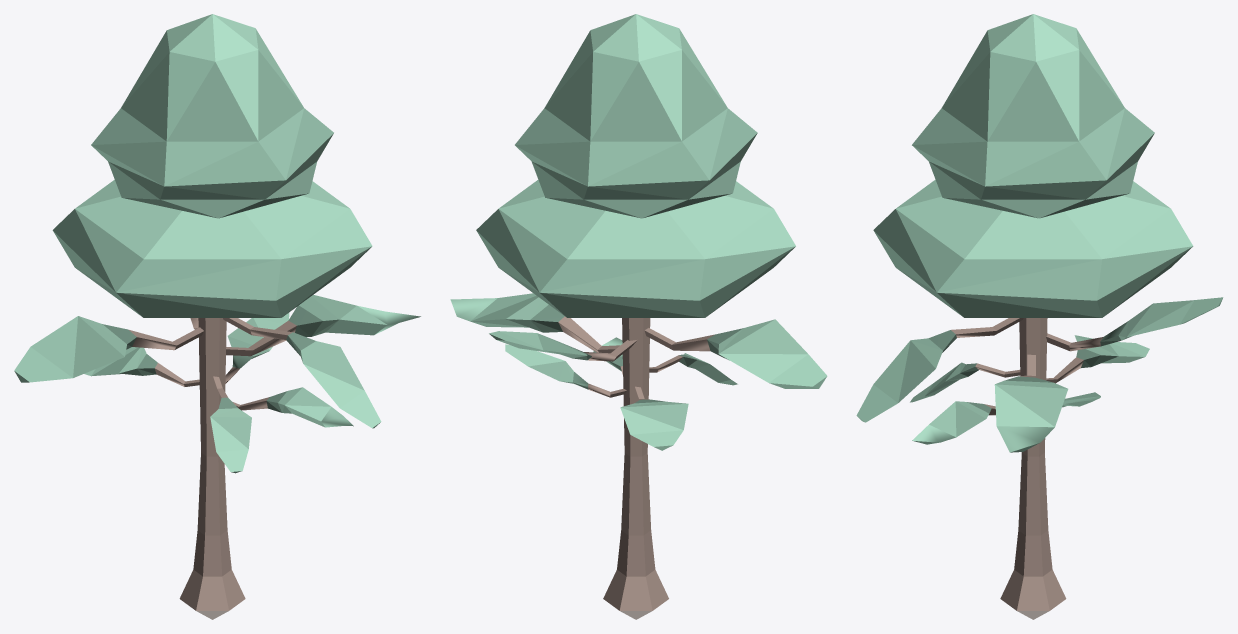
File: TreePine.fbx
3 views of the same model, side by side, from view 1: azimuth 30°, elevation 25°; view 2: azimuth 150°, elevation 25°; view 3: azimuth 270°, elevation 25° (orthographic).
Parts seen in each view (by area): view 1: TreePine; view 2: TreePine; view 3: TreePine.
Boxes of the visible parts, x1,y1,x2,y2 form: TreePine: (14, 14, 420, 619); TreePine: (450, 14, 827, 619); TreePine: (856, 14, 1223, 619).
Size of the model in its own units: 8.78 by 13.21 by 7.25.
